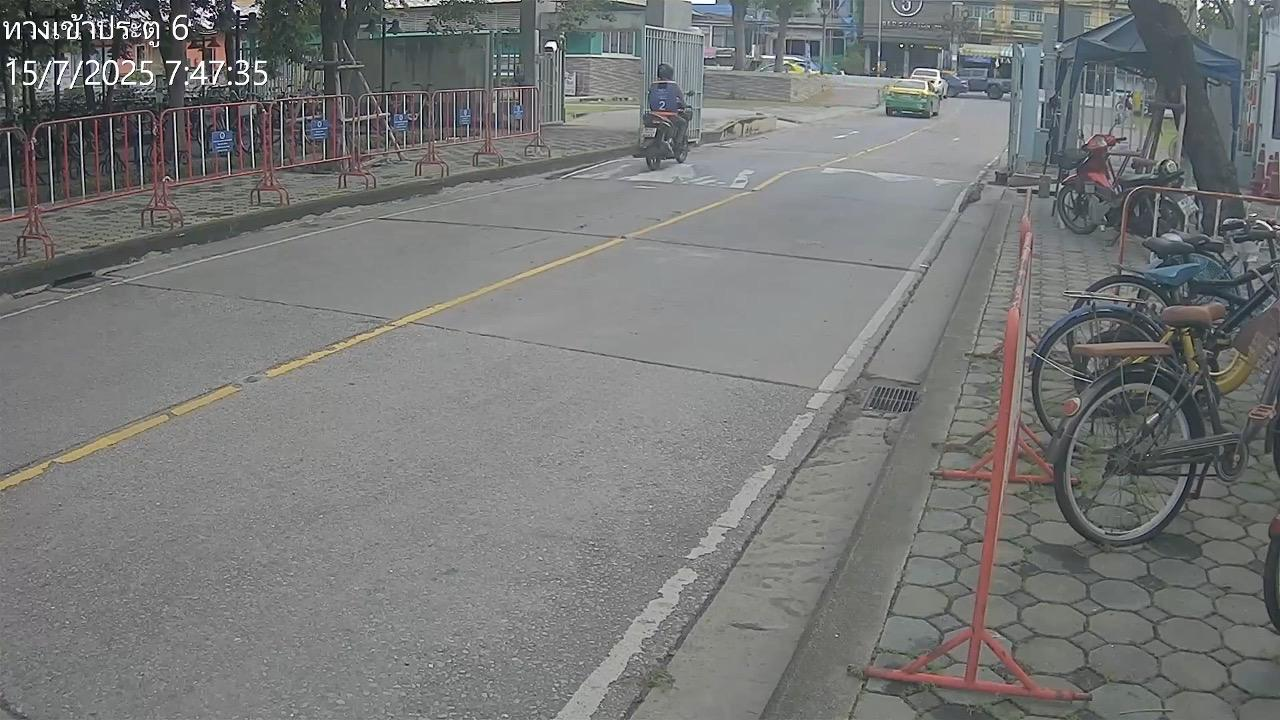With-Helmet: (658, 62, 673, 79)
